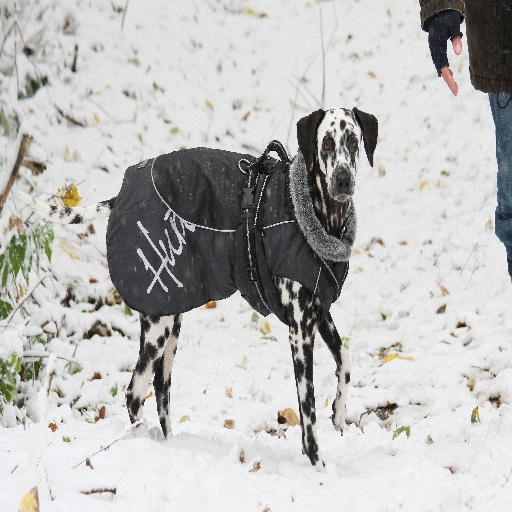hand: (431, 15, 469, 92)
